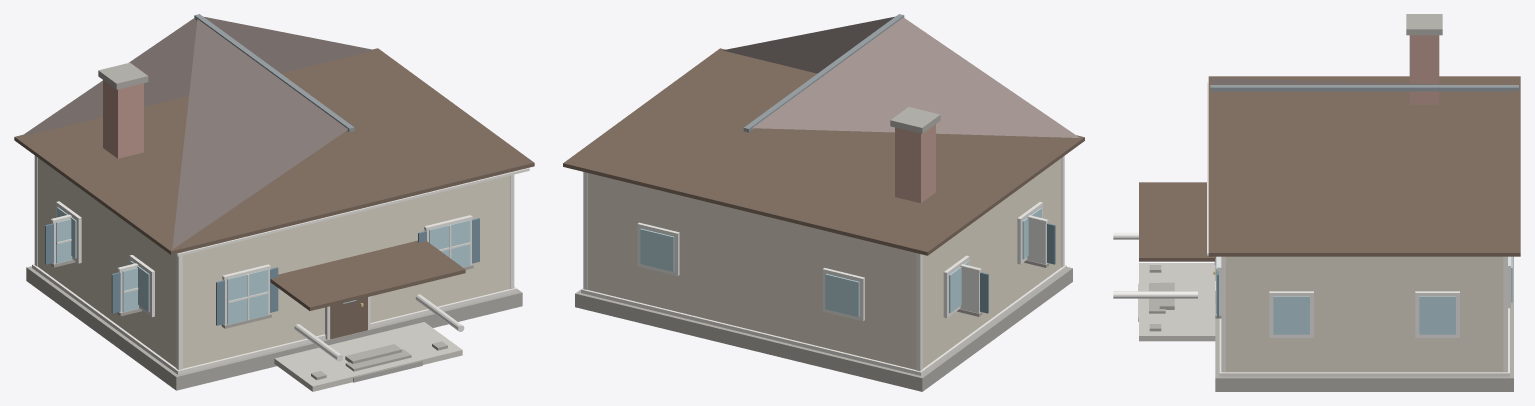
The model's file is house_founders.glb.
3 renders of one model, left to right at view 1: azimuth 30°, elevation 25°; view 2: azimuth 150°, elevation 25°; view 3: azimuth 270°, elevation 25°, orthographic.
Visible parts, largest first — view 1: p004, p000, p003, p007, p001, p006, p063, p002, p020, p071, p028, p016 (+11 smaller); view 2: p000, p004, p003, p001, p063, p002, p060, p062, p005, p064, p035, p043 (+7 smaller); view 3: p004, p000, p007, p001, p006, p005, p063, p002, p056, p058, p003, p064 (+5 smaller).
Part boxes in pixels (x1=…): p004: x1=14, y1=48, x2=534, y2=254; p000: x1=37, y1=158, x2=509, y2=368; p003: x1=20, y1=17, x2=375, y2=248; p007: x1=270, y1=240, x2=465, y2=310; p001: x1=26, y1=266, x2=522, y2=390; p006: x1=274, y1=322, x2=462, y2=391; p063: x1=103, y1=80, x2=143, y2=158; p002: x1=32, y1=264, x2=516, y2=374; p020: x1=227, y1=269, x2=268, y2=324; p071: x1=174, y1=168, x2=529, y2=256; p028: x1=429, y1=220, x2=470, y2=267; p016: x1=330, y1=297, x2=367, y2=339; p000: x1=587, y1=158, x2=1061, y2=369; p004: x1=563, y1=48, x2=1084, y2=255; p003: x1=723, y1=16, x2=1079, y2=137; p001: x1=575, y1=267, x2=1072, y2=391; p063: x1=895, y1=124, x2=935, y2=203; p002: x1=581, y1=265, x2=1066, y2=375; p060: x1=825, y1=274, x2=859, y2=317; p062: x1=640, y1=228, x2=674, y2=271; p005: x1=743, y1=14, x2=904, y2=132; p064: x1=890, y1=107, x2=940, y2=133; p035: x1=960, y1=264, x2=980, y2=313; p043: x1=1027, y1=215, x2=1047, y2=264; p004: x1=1208, y1=76, x2=1520, y2=256; p000: x1=1226, y1=256, x2=1503, y2=372; p007: x1=1139, y1=182, x2=1215, y2=261; p001: x1=1215, y1=256, x2=1513, y2=391; p006: x1=1139, y1=263, x2=1215, y2=341; p005: x1=1210, y1=85, x2=1518, y2=91; p063: x1=1409, y1=35, x2=1439, y2=104; p002: x1=1219, y1=308, x2=1509, y2=376; p056: x1=1419, y1=296, x2=1455, y2=334; p058: x1=1273, y1=296, x2=1309, y2=334; p003: x1=1212, y1=78, x2=1454, y2=84; p064: x1=1406, y1=14, x2=1442, y2=35.
Bounding box in the file's own units: 13.11 × 7.56 × 12.27.
